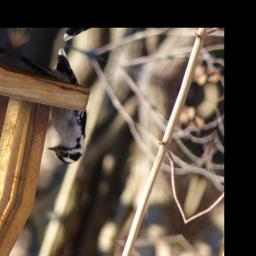Woodpecker: (0, 35, 111, 168)
